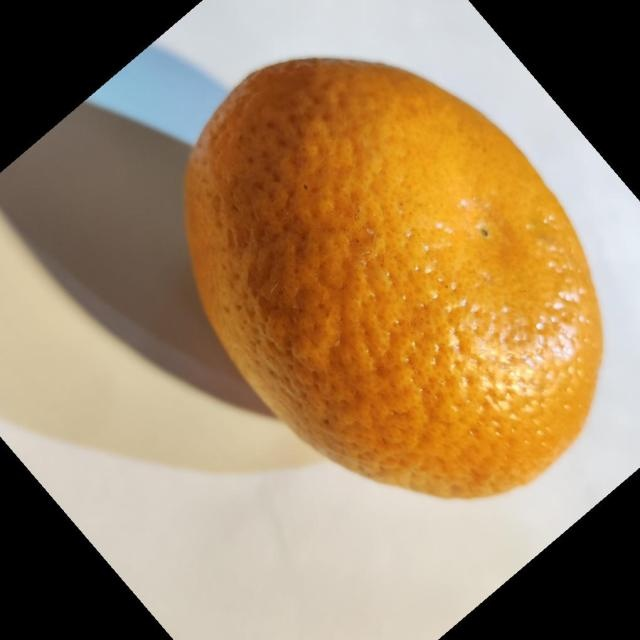agrume: (181, 55, 604, 500)
